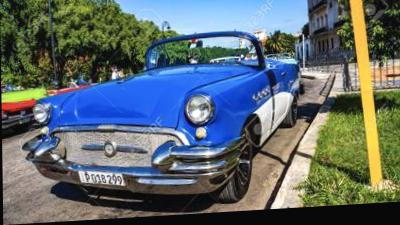License_Plate: (77, 165, 127, 190)
